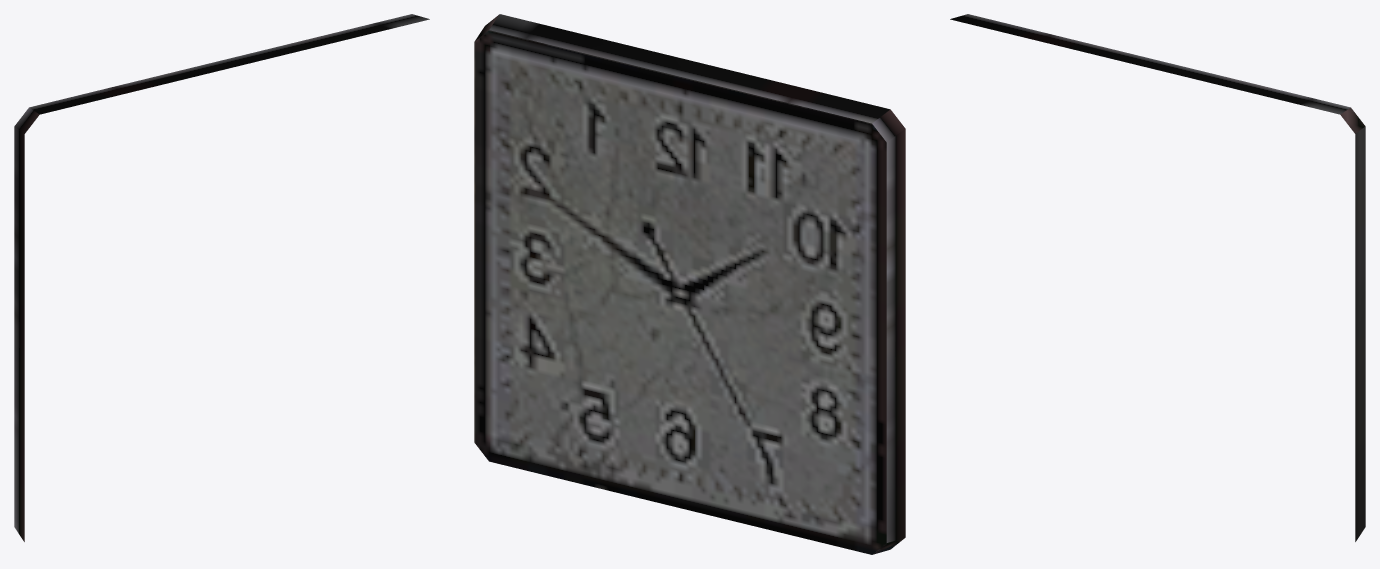
The model's file is Prop_Clock.glb.
3 views of the same model, side by side, from view 1: azimuth 30°, elevation 25°; view 2: azimuth 150°, elevation 25°; view 3: azimuth 330°, elevation 25° (orthographic).
Visible parts, largest first — view 1: xiutz_clock; view 2: xiutz_clock; view 3: xiutz_clock.
Boxes of the visible parts, x1,y1,x2,y2 form: xiutz_clock: (14, 14, 429, 541); xiutz_clock: (474, 14, 905, 554); xiutz_clock: (950, 14, 1365, 541).
Bounding box in the file's own units: 0.8991 × 0.8991 × 0.0542.
Materials: 1 (1 with a texture image).
